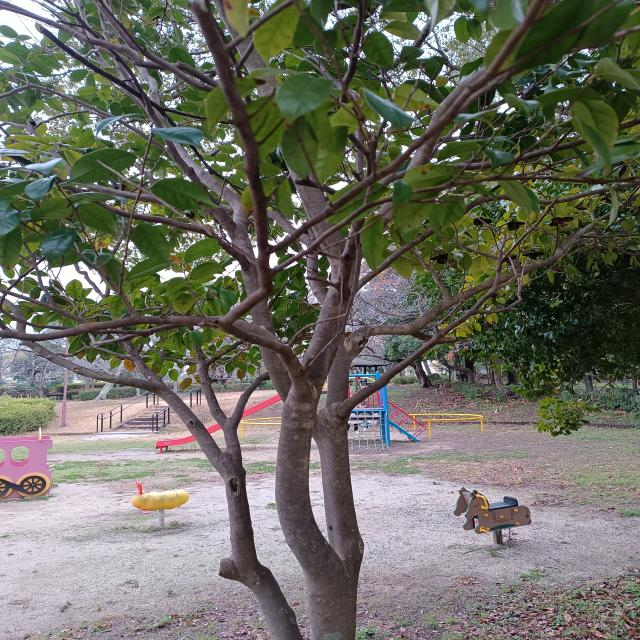Branch: (292, 164, 365, 390), (218, 450, 304, 640), (275, 389, 336, 575), (318, 331, 365, 566)
Twig: (189, 0, 313, 398), (3, 299, 223, 472), (362, 219, 596, 341), (343, 289, 491, 411), (358, 195, 513, 291), (97, 200, 249, 271), (0, 315, 278, 350), (57, 314, 165, 384), (193, 343, 245, 476), (231, 372, 271, 426)
